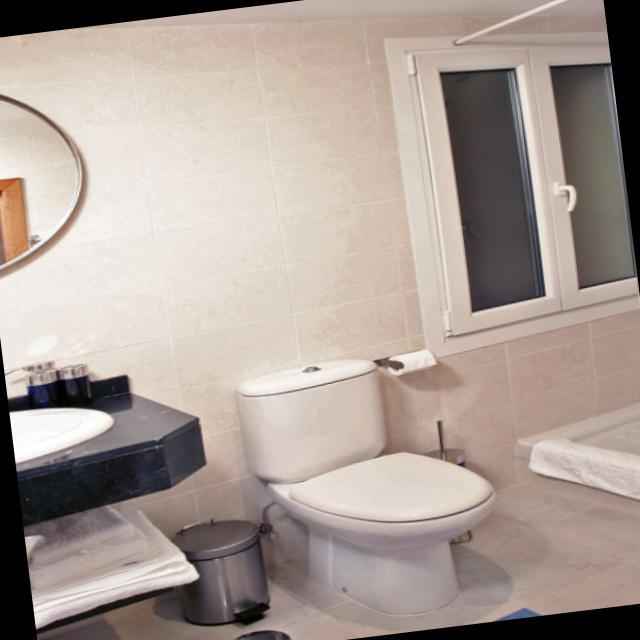2003: (411, 42, 633, 339)
ceiling beam: (92, 0, 600, 26)
cistern occluded: (233, 358, 387, 482)
counertop: (13, 391, 207, 522)
floor -X: (39, 488, 640, 640)
handle bar: (552, 182, 575, 213)
mirror m: (0, 93, 77, 267)
rail: (453, 0, 562, 42)
shower curtain: (511, 398, 640, 520)
toilet bowl: (264, 449, 492, 612)
toilet lid: (430, 420, 461, 462)
toilet paper: (385, 347, 437, 372)
towels: (25, 502, 200, 628)
trash can: (171, 518, 272, 624)
wall clock: (0, 15, 640, 628)
washbasin occluded: (10, 404, 108, 461)
